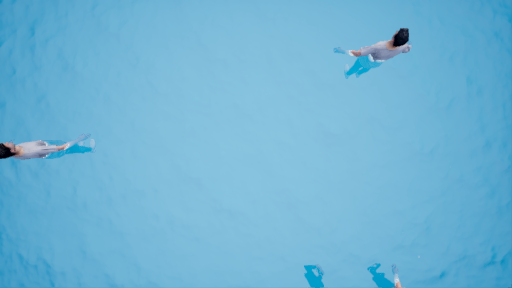person: (328, 21, 419, 89), (1, 128, 128, 165)
